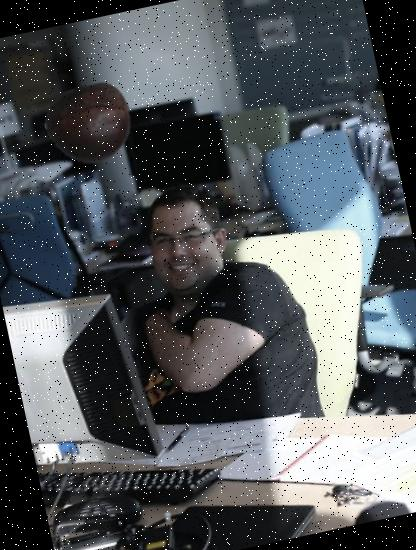Chestnut: (37, 73, 140, 176)
